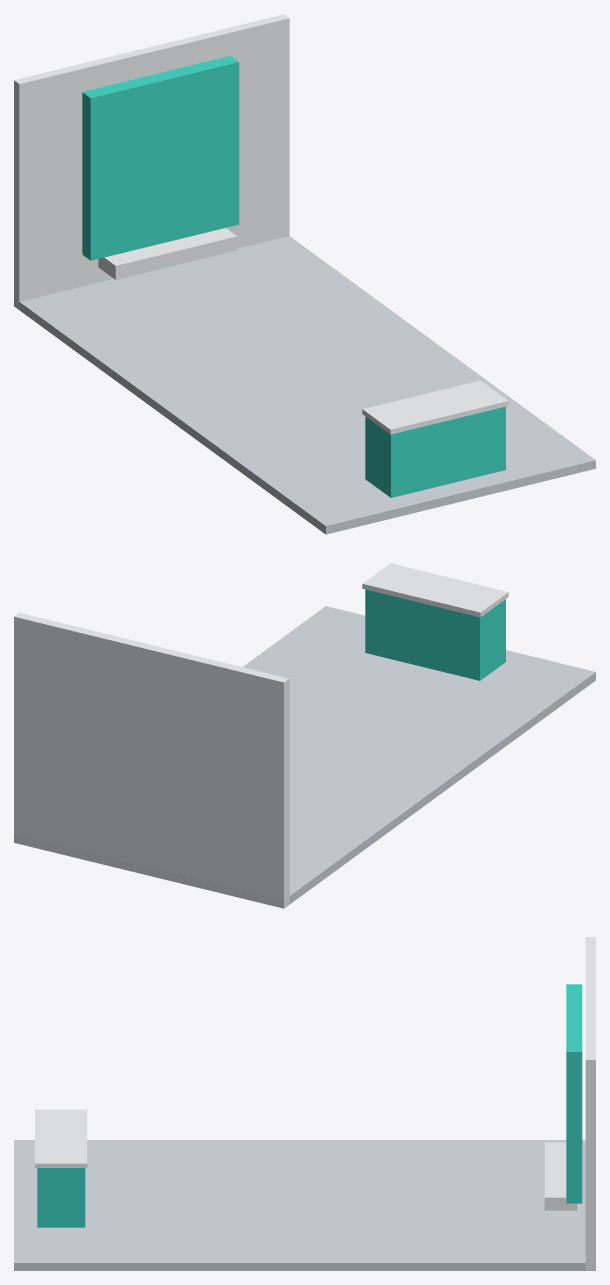
3 views of the same model, one above another, from view 1: azimuth 30°, elevation 25°; view 2: azimuth 150°, elevation 25°; view 3: azimuth 270°, elevation 25° (orthographic). The views are drawn at different scales.
Parts seen in each view (by area): view 1: Exhibition Booth Concept; view 2: Exhibition Booth Concept; view 3: Exhibition Booth Concept.
Part boxes in pixels (x1,y1,x2,y2): Exhibition Booth Concept: (14,14,595,534); Exhibition Booth Concept: (14,563,595,908); Exhibition Booth Concept: (14,937,595,1270).
Bounding box in the file's own units: 4 × 3.2 × 8.
